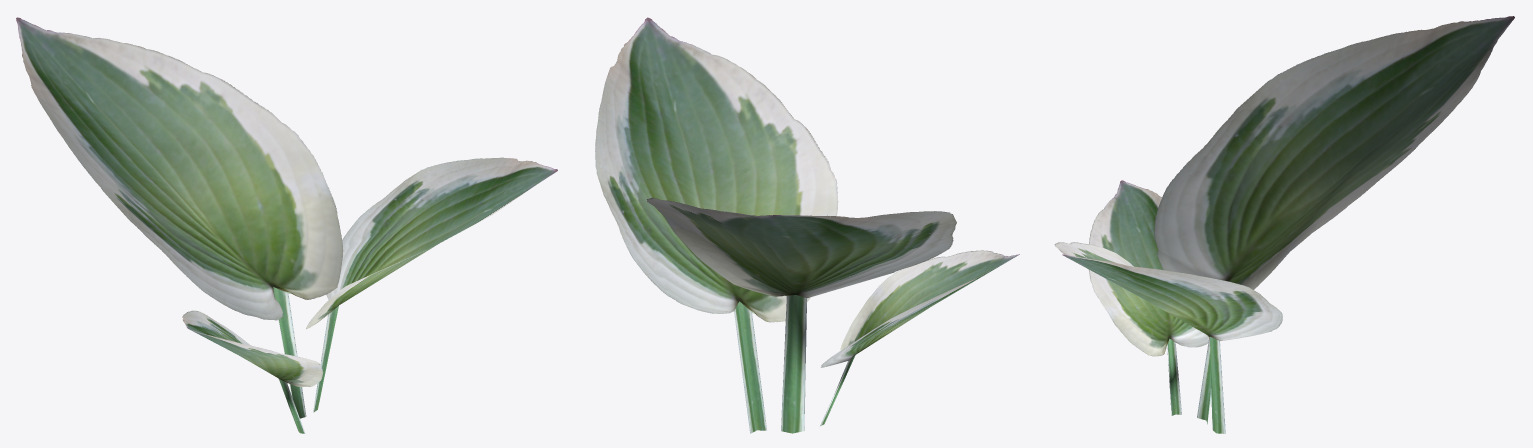
File: plant_small_wg_04C.fbx
3 renders of one model, left to right at view 1: azimuth 30°, elevation 25°; view 2: azimuth 150°, elevation 25°; view 3: azimuth 270°, elevation 25°, orthographic. The views are drawn at different scales.
Parts seen in each view (by area): view 1: plant_small_wg_04C; view 2: plant_small_wg_04C; view 3: plant_small_wg_04C.
Boxes of the visible parts, x1,y1,x2,y2 form: plant_small_wg_04C: (16,17,557,433); plant_small_wg_04C: (595,17,1019,433); plant_small_wg_04C: (1054,16,1514,433).
Bounding box in the file's own units: 62.08 × 52.84 × 65.97.
